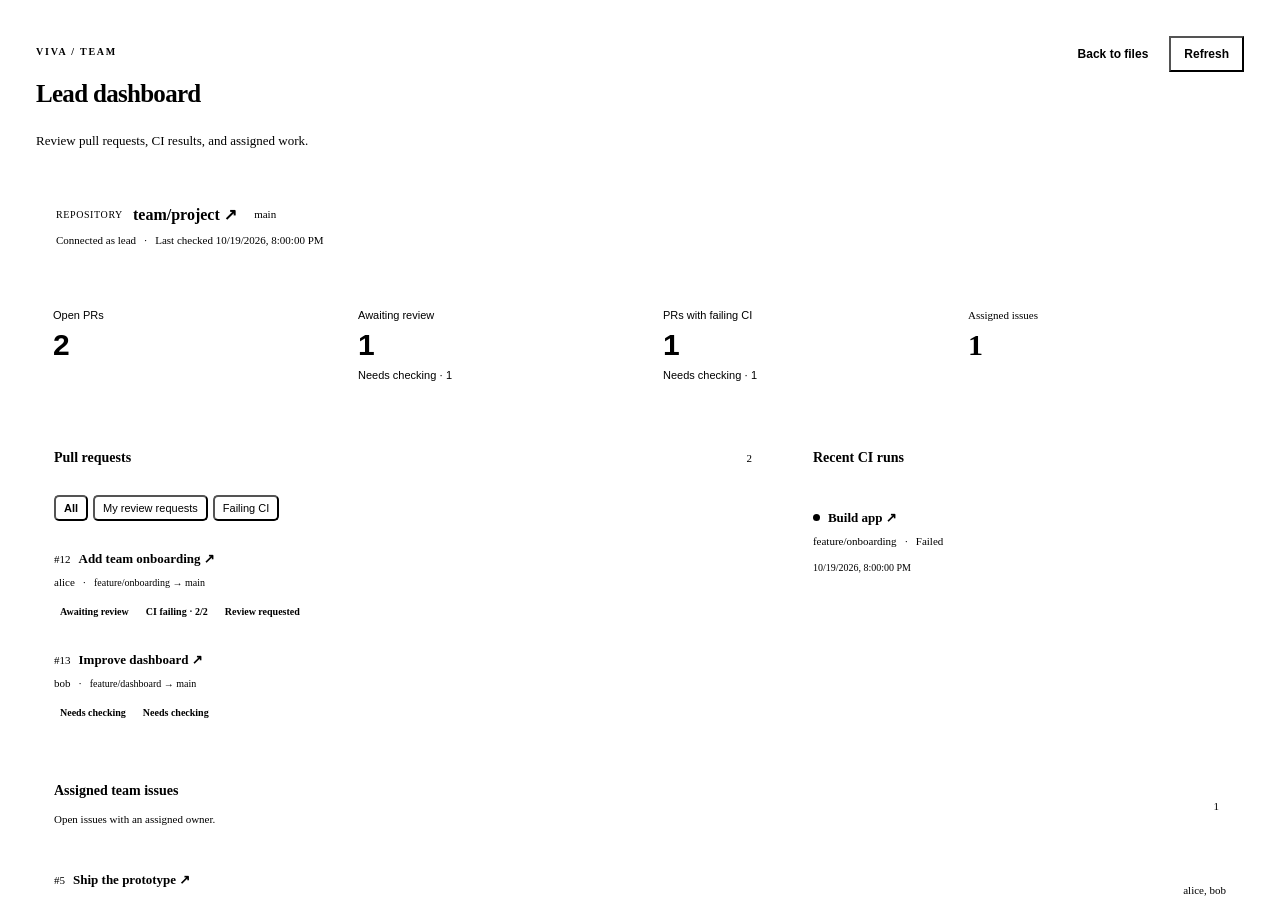
Test: LeadDashboard › filters PRs by review requests and failing CI
Click the button "My review requests": point(150, 508) left=93, top=495, right=208, bottom=521
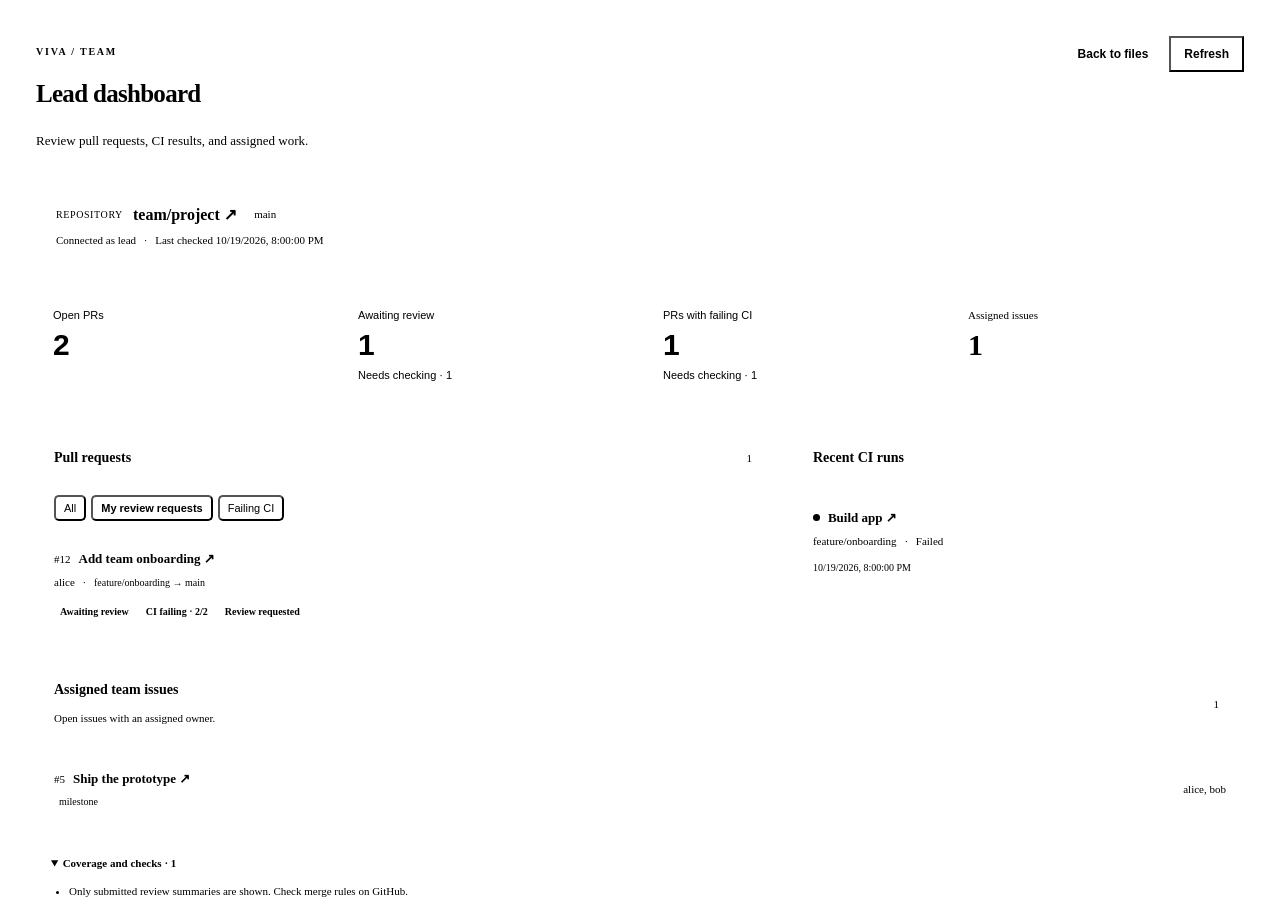
Expected: the link "Add team onboarding ↗" is shown, left=78, top=549, right=215, bottom=568
Result: the link "Improve dashboard ↗" is gone
Click the button "All": point(70, 508) left=54, top=495, right=86, bottom=521
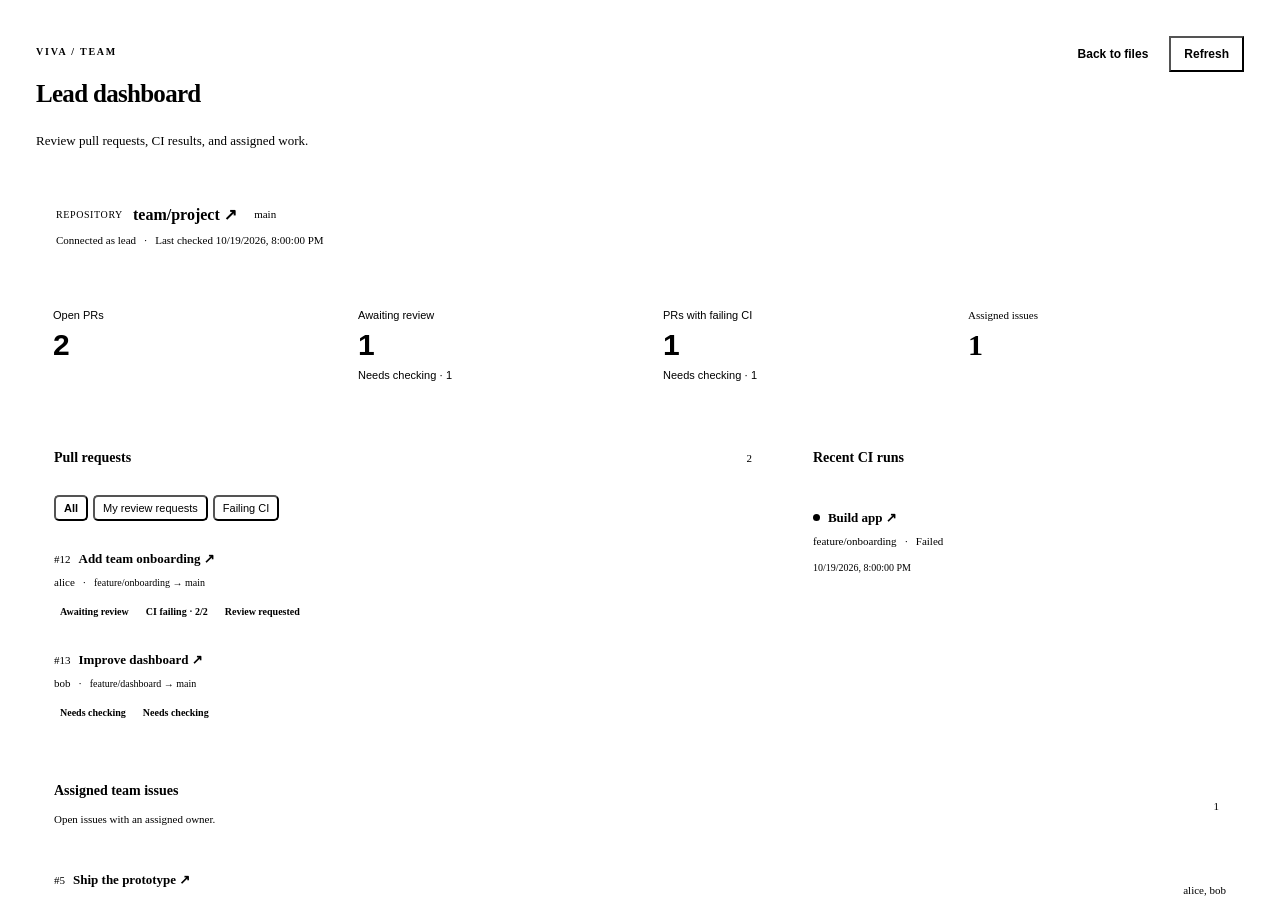
Result: the link "Improve dashboard ↗" is shown at left=78, top=650, right=203, bottom=669
Click the button "Failing CI": point(246, 508) left=213, top=495, right=279, bottom=521
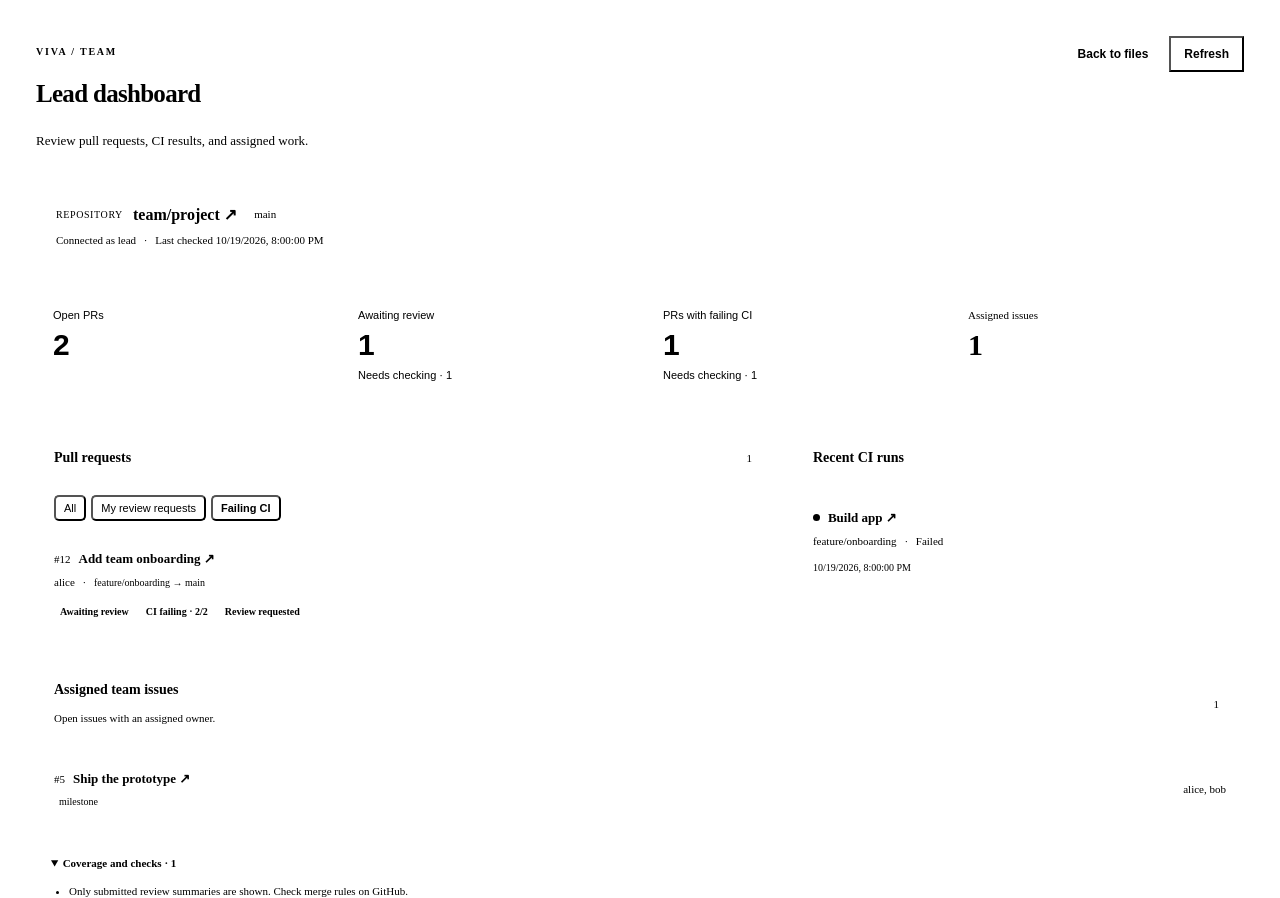
Result: the link "Improve dashboard ↗" is gone
